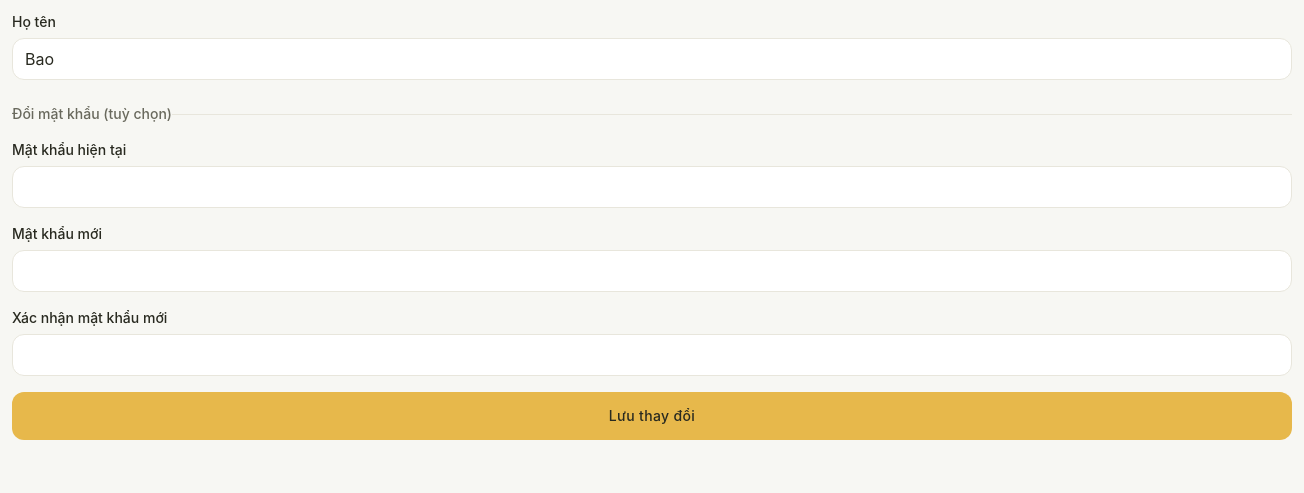
ProfileForm › shows a friendly Vietnamese message and retains the name on a network error
Replace the text in the field labelled "Họ tên" with "Bao Updated" at (652, 59), box [12,38,1292,80]
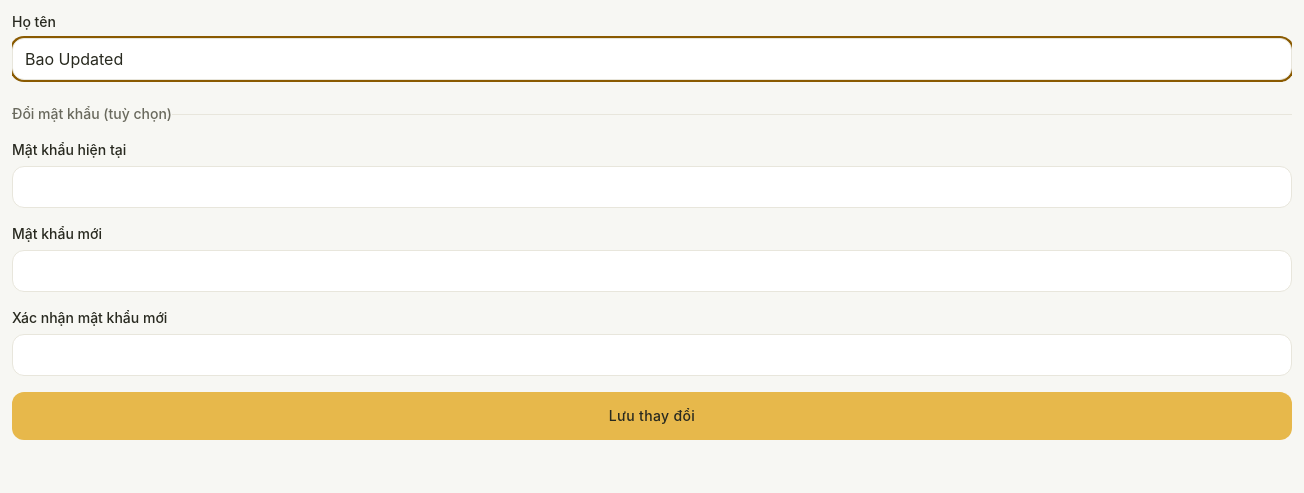
Click the button "Lưu thay đổi".
click(652, 416)  # box [12,392,1292,440]
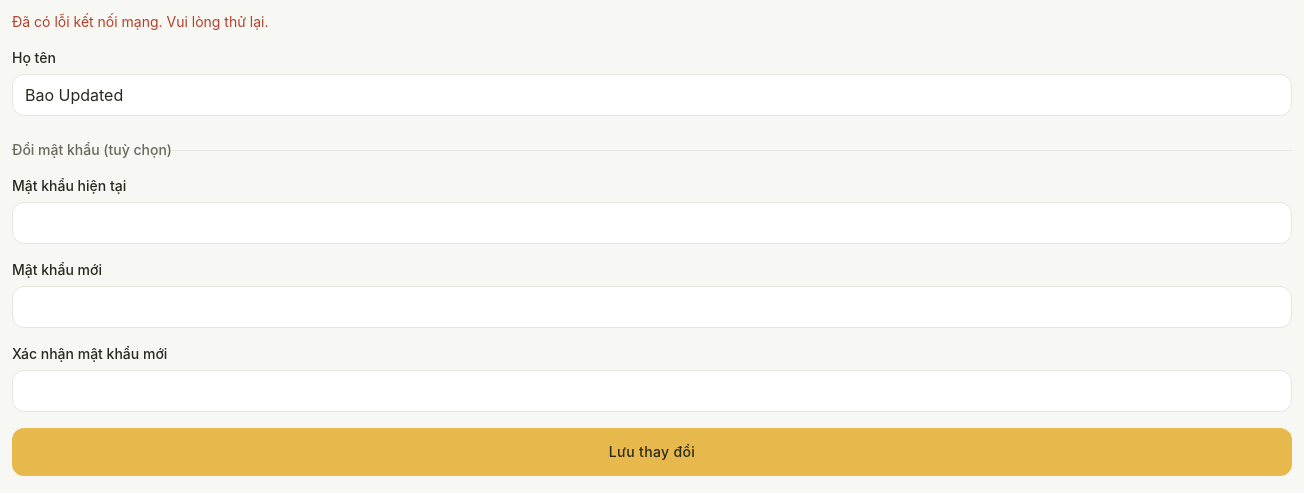
Expected: the text "Đã có lỗi kết nối mạng. Vui lòng thử lại." is shown, [12,13,268,30]
